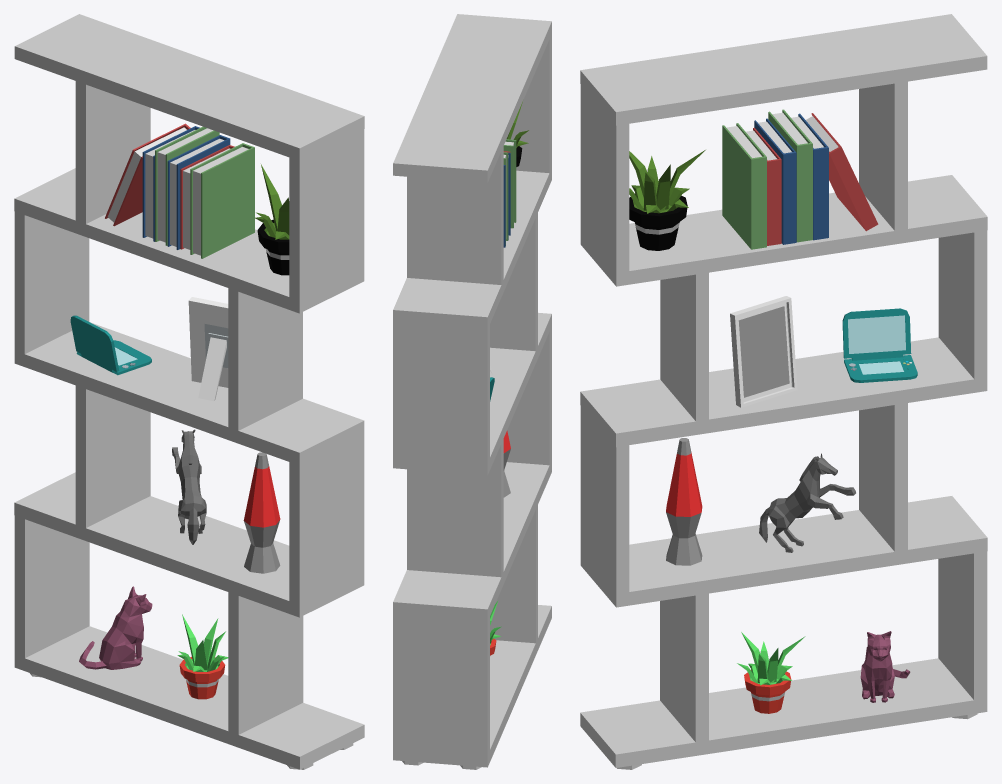
Rendered from Shelf.glb.
3 views of the same model, side by side, from view 1: azimuth 30°, elevation 25°; view 2: azimuth 150°, elevation 25°; view 3: azimuth 270°, elevation 25° (orthographic). The views are drawn at different scales.
Parts seen in each view (by area): view 1: Bookshelf, Books, Portrait, Lamp, Cat_01(1), 3ds, plant.003, Horse, plant.002; view 2: Bookshelf, Books, Lamp, plant.002; view 3: Bookshelf, Books, Portrait, 3ds, plant.002, Lamp, Horse, plant.003, Cat_01(1).
Boxes of the visible parts, x1,y1,x2,y2 form: Bookshelf: (14, 14, 364, 769); Books: (105, 123, 254, 258); Portrait: (188, 297, 228, 401); Lamp: (243, 452, 280, 573); Cat_01(1): (79, 586, 152, 669); 3ds: (70, 315, 151, 375); plant.003: (177, 614, 228, 699); Horse: (172, 429, 206, 544); plant.002: (254, 164, 289, 275); Bookshelf: (393, 14, 551, 769); Books: (503, 139, 516, 247); Lamp: (503, 430, 510, 497); plant.002: (506, 101, 528, 166); Bookshelf: (580, 14, 987, 769); Books: (722, 109, 878, 249); Portrait: (730, 296, 797, 407); 3ds: (842, 308, 917, 382); plant.002: (629, 150, 705, 250); Lamp: (666, 438, 702, 565); Horse: (759, 453, 855, 552); plant.003: (737, 632, 805, 713); Cat_01(1): (860, 631, 910, 702).
Bounding box in the file's own units: 1.55 × 4.88 × 2.72.
23 materials, 2 textured.
